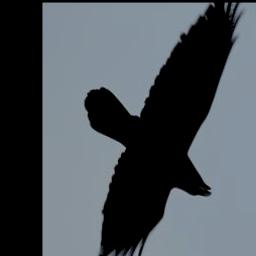Crow: (83, 2, 244, 256)
